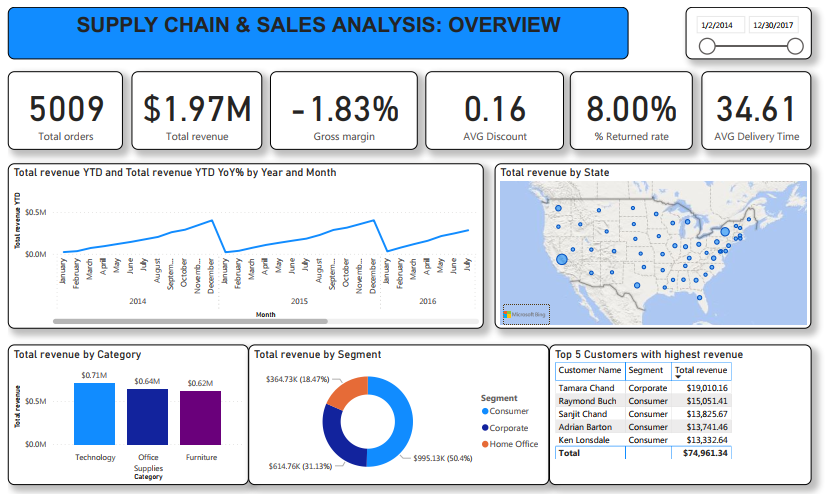

The page's visual inventory and layout, read from the dashboard file:
{"tool":"powerbi","page":{"name":"Overview","canvas":[1280,800],"ordinal":0},"visuals":[{"type":"card","fields":{"Values":["Measures (2).Total orders"]},"box":[0,98.6,175.9,119.8],"z":0},{"type":"card","fields":{"Values":["Measures (2).AVG Delivery Time"]},"box":[1063.1,98.6,168.3,119.8],"z":1000},{"type":"textbox","box":[0,0,950.9,80.4],"z":2000},{"type":"card","fields":{"Values":["Measures (2).Total revenue"]},"box":[189.6,98.6,200.2,119.8],"z":3000},{"type":"card","fields":{"Values":["Measures (2).Profit margin"]},"box":[401.9,98.6,226,119.8],"z":4000},{"type":"slicer","fields":{"Values":["Calendar.Date"]},"box":[1038.9,0,192.6,80.4],"z":5000},{"type":"card","fields":{"Values":["Measures (2).% Returned rate"]},"box":[861.4,98.6,188.1,119.8],"z":6000},{"type":"lineChart","fields":{"Y":["Measures (2).Total revenue YTD"],"Category":["Calendar.Date.Variation.Date Hierarchy.Year","Calendar.Date.Variation.Date Hierarchy.Month"]},"box":[0,239.6,729.5,253.3],"z":7000},{"type":"card","fields":{"Values":["Measures (2).AVG Discount"]},"box":[640,98.6,212.3,119.8],"z":8000},{"type":"clusteredColumnChart","fields":{"Y":["Measures (2).Total revenue"],"Category":["Supply Chain & Sales.Category"]},"box":[0,517.2,368.5,215.4],"z":9000},{"type":"donutChart","fields":{"Y":["Measures (2).Total revenue"],"Category":["Supply Chain & Sales.Segment"]},"box":[368.5,517.2,461,215.4],"z":10000},{"type":"tableEx","title":"Top 5 Customers with highest revenue","fields":{"Values":["Supply Chain & Sales.Customer Name","Supply Chain & Sales.Segment","Measures (2).Total revenue"]},"box":[829.6,517.2,401.9,215.4],"z":11000},{"type":"map","fields":{"Category":["Supply Chain & Sales.State"],"Size":["Measures (2).Total revenue"]},"box":[746.2,239.6,485.3,253.3],"z":12000}]}

Visuals, with their boxes on the page's 1280x800 design canvas (x1, y1, x2, y2). These are canvas units, not pixel positions in the 827x494 screenshot, which may show the page scaled, cropped or inside an application window:
card - Measures (2).Total orders: [0,99,176,218]
card - Measures (2).AVG Delivery Time: [1063,99,1231,218]
textbox: [0,0,951,80]
card - Measures (2).Total revenue: [190,99,390,218]
card - Measures (2).Profit margin: [402,99,628,218]
slicer - Calendar.Date: [1039,0,1232,80]
card - Measures (2).% Returned rate: [861,99,1050,218]
lineChart - Measures (2).Total revenue YTD x Calendar.Date.Variation.Date Hierarchy.Year: [0,240,730,493]
card - Measures (2).AVG Discount: [640,99,852,218]
clusteredColumnChart - Measures (2).Total revenue x Supply Chain & Sales.Category: [0,517,368,733]
donutChart - Measures (2).Total revenue x Supply Chain & Sales.Segment: [368,517,830,733]
"Top 5 Customers with highest revenue" tableEx: [830,517,1232,733]
map - Supply Chain & Sales.State x Measures (2).Total revenue: [746,240,1232,493]
